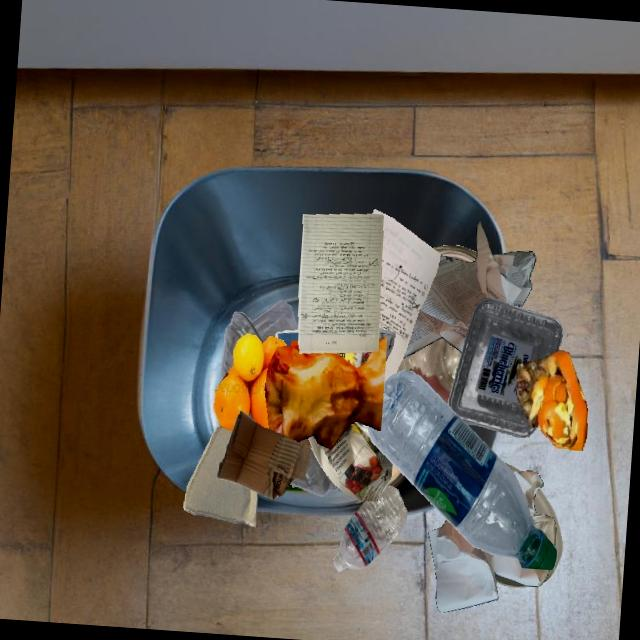biowaste: (264, 336, 387, 449), (516, 349, 587, 450), (213, 333, 286, 430)
cardboard: (217, 410, 310, 499), (183, 425, 257, 527), (297, 437, 312, 449)
glass: (395, 337, 461, 404)
paper: (402, 221, 535, 358), (298, 214, 383, 353), (372, 209, 440, 382), (428, 519, 549, 612), (308, 421, 392, 502)
plastic: (366, 369, 556, 569), (447, 297, 562, 437), (250, 330, 338, 487), (333, 486, 406, 572), (220, 299, 282, 380), (497, 471, 534, 575), (534, 488, 563, 584), (289, 462, 338, 496), (285, 483, 309, 492)
